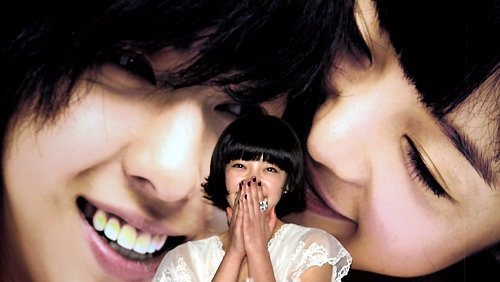face: (300, 1, 498, 281), (29, 36, 209, 278), (224, 151, 282, 216)
